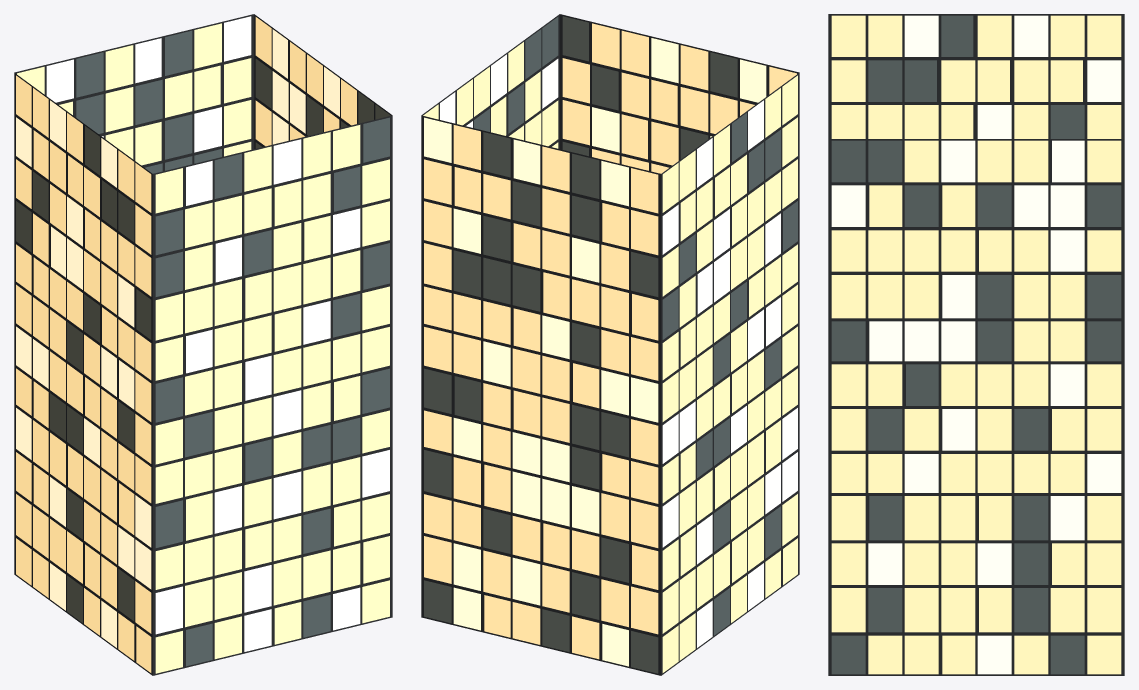
Rendered from SM_Bld_OfficeSquare_01.fbx.
3 views of the same model, side by side, from view 1: azimuth 30°, elevation 25°; view 2: azimuth 150°, elevation 25°; view 3: azimuth 270°, elevation 25° (orthographic). The views are drawn at different scales.
Parts seen in each view (by area): view 1: SM_Bld_OfficeSquare_01; view 2: SM_Bld_OfficeSquare_01; view 3: SM_Bld_OfficeSquare_01.
Boxes of the visible parts, <box> form: SM_Bld_OfficeSquare_01: <box>14,14,392,675</box>; SM_Bld_OfficeSquare_01: <box>421,14,799,675</box>; SM_Bld_OfficeSquare_01: <box>828,14,1124,675</box>.
Bounding box in the file's own units: 1500 × 3000 × 1500.
